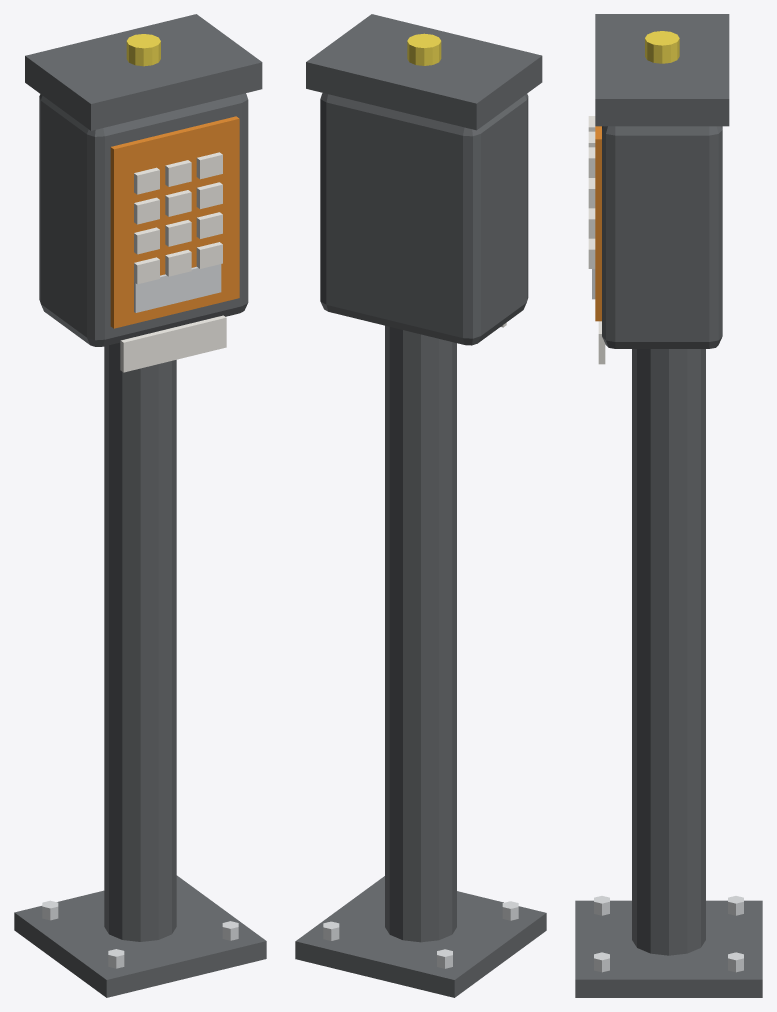
Rendered from self-storage-facility-and-loading-bay-self-storage-fac-009f905a__34723.glb.
3 views of the same model, side by side, from view 1: azimuth 30°, elevation 25°; view 2: azimuth 150°, elevation 25°; view 3: azimuth 270°, elevation 25° (orthographic). The views are drawn at different scales.
Visible parts, largest first — view 1: self-storage-facility-and-loading-bay-access-control-keypad- (×5); view 2: self-storage-facility-and-loading-bay-access-control-keypad- (×3); view 3: self-storage-facility-and-loading-bay-access-control-keypad- (×5).
Boxes of the visible parts, bbox=[...] form: self-storage-facility-and-loading-bay-access-control-keypad- (×5): bbox=[14, 14, 266, 997]; self-storage-facility-and-loading-bay-access-control-keypad- (×3): bbox=[295, 14, 546, 997]; self-storage-facility-and-loading-bay-access-control-keypad- (×5): bbox=[575, 14, 762, 997].
Bounding box in the file's own units: 0.3 × 1.52 × 0.2799.
